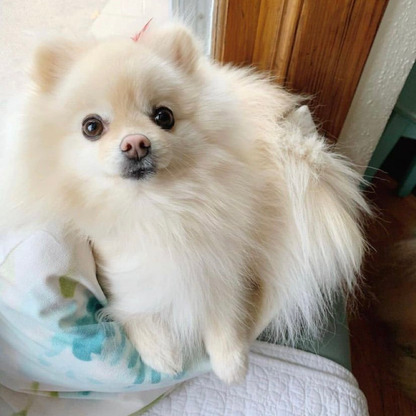Pomeranian: (23, 37, 366, 350)
